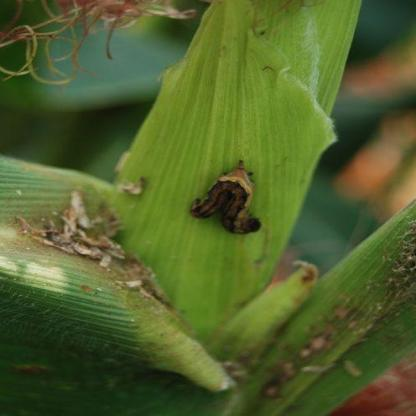armyworm: (184, 164, 266, 238)
